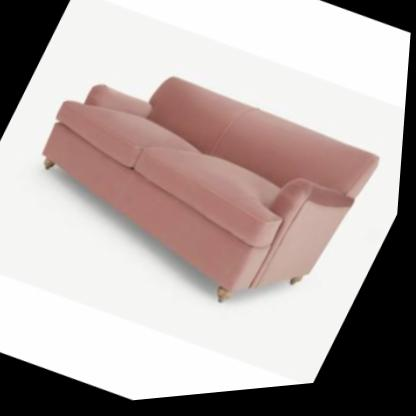Sofa: (0, 21, 397, 362)
